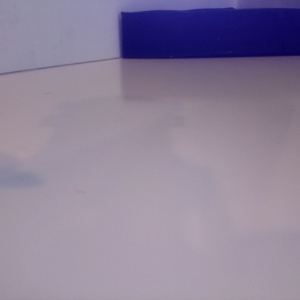zone: (121, 7, 300, 59)
